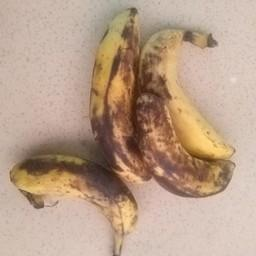Bad_banana: (83, 8, 233, 208), (145, 17, 232, 200), (8, 150, 141, 253)
